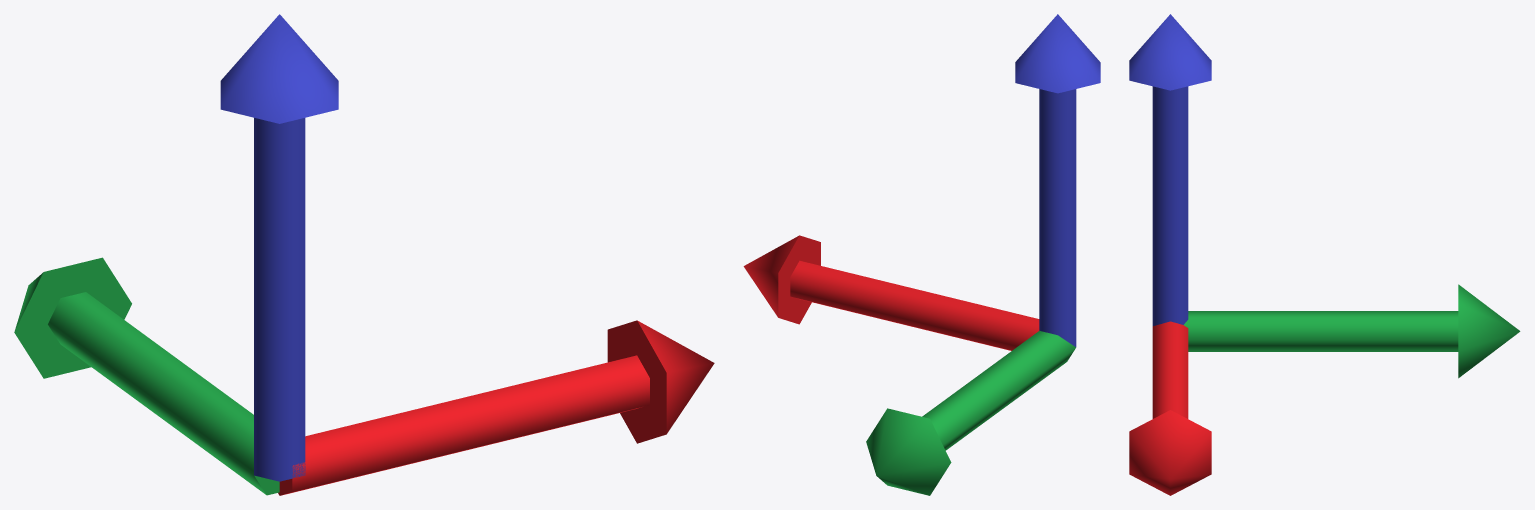
Rendered from CrucetaDeEjes.FBX.
3 renders of one model, left to right at view 1: azimuth 30°, elevation 25°; view 2: azimuth 150°, elevation 25°; view 3: azimuth 270°, elevation 25°, orthographic. The views are drawn at different scales.
Parts seen in each view (by area): view 1: Cylinder001; view 2: Cylinder001; view 3: Cylinder001.
Boxes of the visible parts, left/top/right/bottom form: Cylinder001: left=14, top=14, right=714, bottom=495; Cylinder001: left=743, top=14, right=1100, bottom=495; Cylinder001: left=1129, top=14, right=1520, bottom=495.
Bounding box in the file's own units: 96.74 × 96.74 × 95.2.
1 material, 1 textured.
